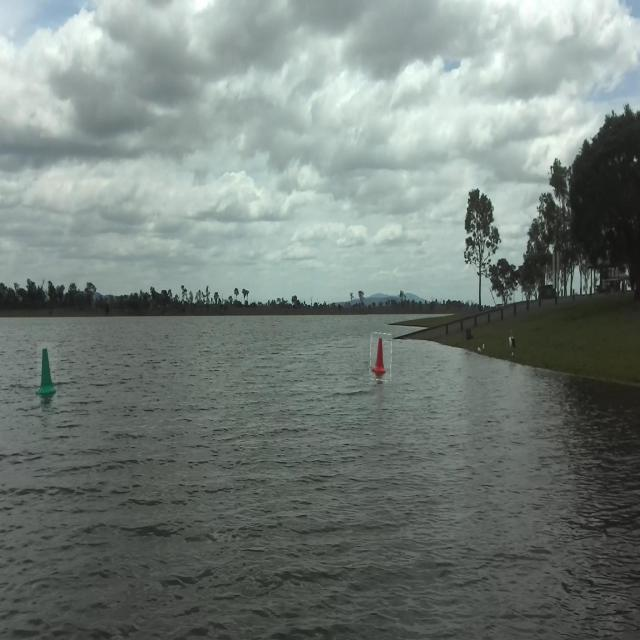Green_Buoy: (39, 348, 60, 398)
Red_Buoy: (366, 330, 394, 384)
